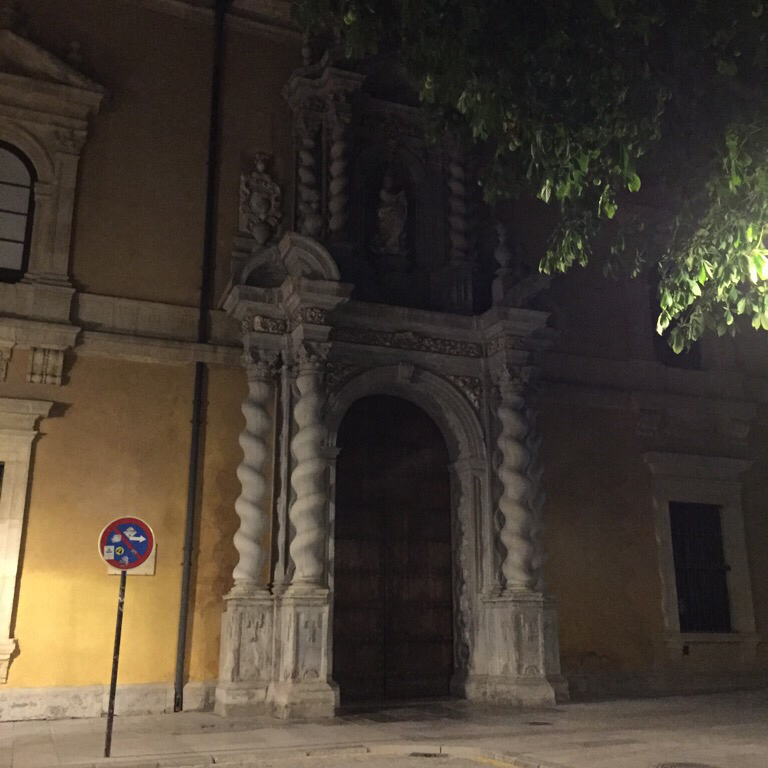arco-medio-punto: (332, 374, 476, 479)
columna-salomonica: (493, 364, 541, 595), (288, 366, 332, 592), (228, 373, 273, 590), (327, 123, 353, 247), (443, 158, 473, 259), (299, 132, 321, 237)
